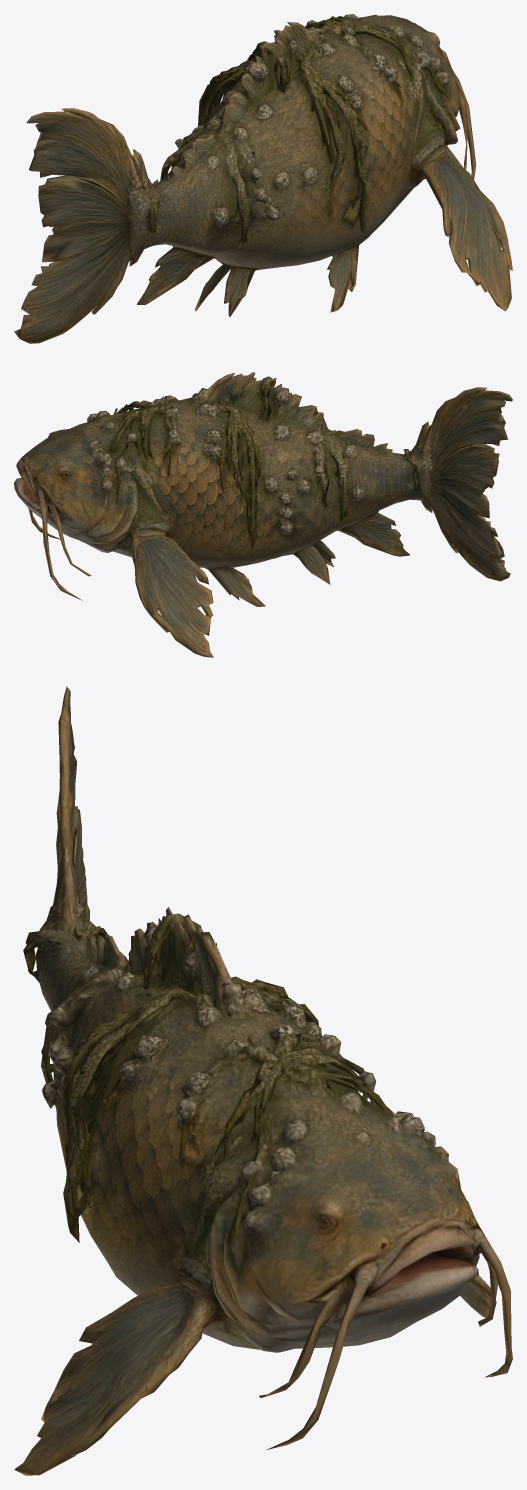
File: beast-chudo.glb
3 renders of one model, top to bottom at view 1: azimuth 30°, elevation 25°; view 2: azimuth 150°, elevation 25°; view 3: azimuth 270°, elevation 25°, orthographic. The views are drawn at different scales.
Parts seen in each view (by area): view 1: tripo_node_649192e1-5e1a-4abe-a241-dd07ae41414d; view 2: tripo_node_649192e1-5e1a-4abe-a241-dd07ae41414d; view 3: tripo_node_649192e1-5e1a-4abe-a241-dd07ae41414d.
Boxes of the visible parts, x1,y1,x2,y2 form: tripo_node_649192e1-5e1a-4abe-a241-dd07ae41414d: (14, 14, 512, 343); tripo_node_649192e1-5e1a-4abe-a241-dd07ae41414d: (14, 372, 512, 657); tripo_node_649192e1-5e1a-4abe-a241-dd07ae41414d: (14, 686, 512, 1475).
Size of the model in its own units: 1 by 0.5279 by 0.5323.
Materials: 1 (1 with a texture image).
